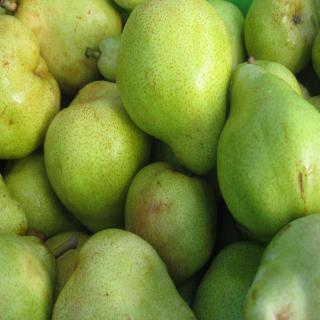Pear: (0, 0, 320, 320), (216, 57, 319, 239)
